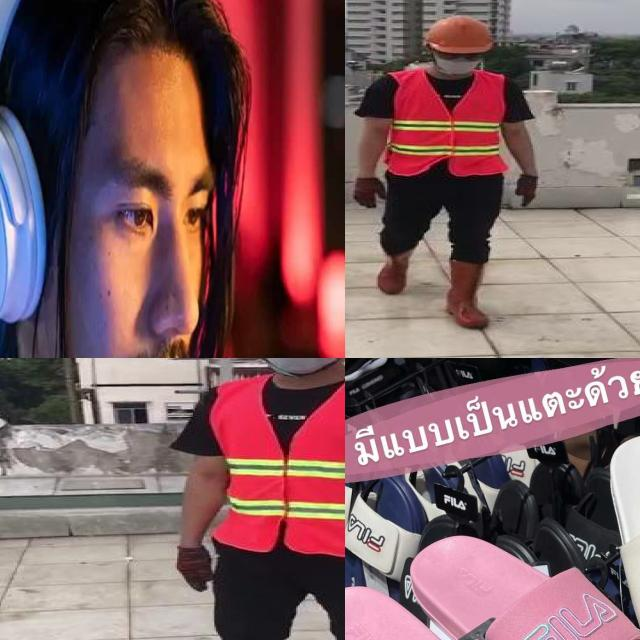Ear-protection: (0, 0, 246, 358)
No_Glasses: (90, 130, 212, 286)
Sandals: (345, 528, 640, 640)
boots: (446, 256, 492, 329), (376, 246, 414, 295)
face_mask: (430, 46, 486, 78), (251, 358, 345, 374)
glasses: (430, 46, 492, 64)
hand_glove: (176, 548, 214, 591), (351, 178, 387, 208), (515, 175, 540, 208)
head_helmet: (421, 10, 495, 56)
person: (345, 7, 550, 340), (168, 358, 345, 640)
vest: (211, 374, 345, 556), (385, 69, 506, 176)
